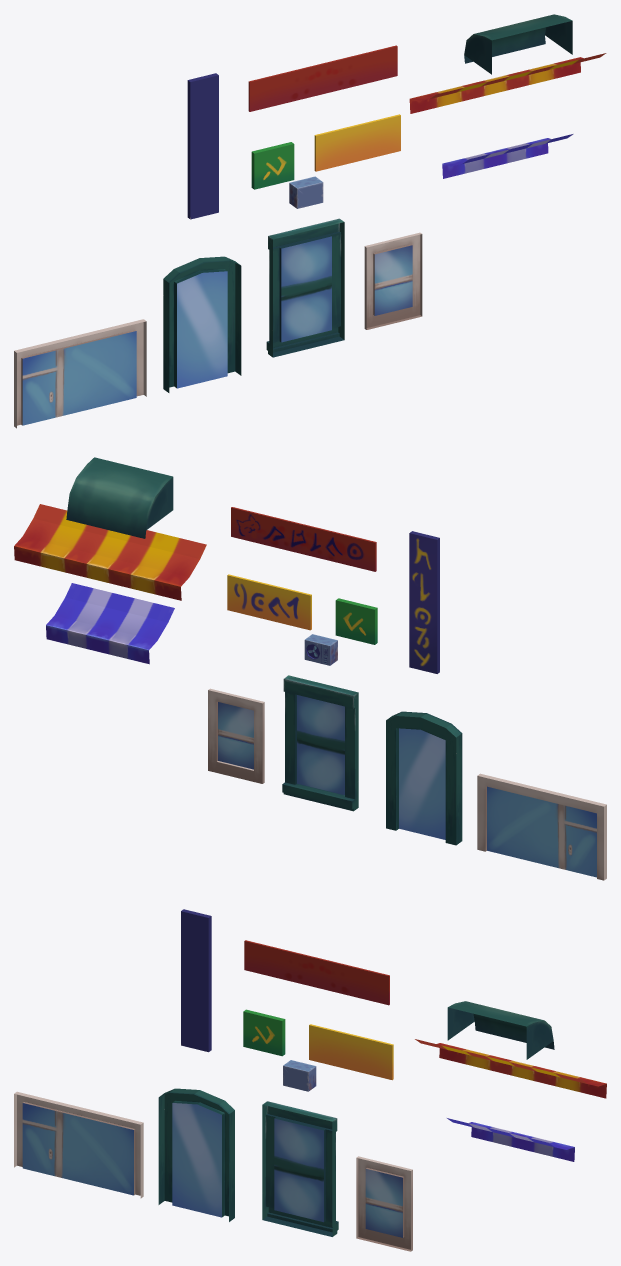
The model's file is BuildingDecos.fbx.
The picture shows the model from 3 angles, top to bottom: view 1: azimuth 30°, elevation 25°; view 2: azimuth 150°, elevation 25°; view 3: azimuth 330°, elevation 25°; orthographic projection. The views are drawn at different scales.
Parts seen in each view (by area): view 1: Door_1, Door_2, Window_2, Window_1, Placa_grande, Placa_vcertical, Placa_media, Toldo_3, Toldo_1, Toldo_2, Placa_Pequena, ar-condicionado.001; view 2: Door_1, Toldo_1, Door_2, Window_2, Toldo_2, Toldo_3, Window_1, Placa_grande, Placa_vcertical, Placa_media, Placa_Pequena, ar-condicionado.001; view 3: Door_1, Door_2, Window_2, Window_1, Placa_grande, Placa_vcertical, Placa_media, Toldo_3, Toldo_1, Toldo_2, Placa_Pequena, ar-condicionado.001.
Boxes of the visible parts, bbox=[...] form: Door_1: bbox=[14, 319, 146, 428]; Door_2: bbox=[163, 256, 241, 392]; Window_2: bbox=[266, 218, 344, 357]; Window_1: bbox=[364, 232, 422, 329]; Placa_grande: bbox=[248, 45, 397, 111]; Placa_vcertical: bbox=[187, 73, 218, 219]; Placa_media: bbox=[314, 114, 400, 171]; Toldo_3: bbox=[464, 14, 572, 74]; Toldo_1: bbox=[409, 53, 606, 113]; Toldo_2: bbox=[442, 134, 573, 178]; Placa_Pequena: bbox=[251, 142, 294, 189]; ar-condicionado.001: bbox=[289, 176, 323, 208]; Door_1: bbox=[477, 773, 606, 880]; Toldo_1: bbox=[14, 504, 206, 600]; Door_2: bbox=[386, 711, 462, 845]; Window_2: bbox=[282, 675, 358, 811]; Toldo_2: bbox=[46, 583, 174, 664]; Toldo_3: bbox=[66, 457, 173, 538]; Window_1: bbox=[208, 688, 264, 783]; Placa_grande: bbox=[231, 507, 376, 571]; Placa_vcertical: bbox=[409, 531, 439, 673]; Placa_media: bbox=[227, 574, 311, 630]; Placa_Pequena: bbox=[335, 598, 377, 644]; ar-condicionado.001: bbox=[304, 634, 337, 665]; Door_1: bbox=[14, 1091, 143, 1198]; Door_2: bbox=[158, 1088, 234, 1221]; Window_2: bbox=[262, 1101, 338, 1236]; Window_1: bbox=[356, 1156, 412, 1251]; Placa_grande: bbox=[244, 940, 389, 1005]; Placa_vcertical: bbox=[181, 909, 211, 1052]; Placa_media: bbox=[309, 1024, 393, 1080]; Toldo_3: bbox=[447, 1001, 554, 1059]; Toldo_1: bbox=[415, 1039, 606, 1098]; Toldo_2: bbox=[447, 1118, 574, 1161]; Placa_Pequena: bbox=[243, 1009, 285, 1056]; ar-condicionado.001: bbox=[283, 1060, 316, 1091].
Size of the model in its own units: 3361 by 1677 by 371.
